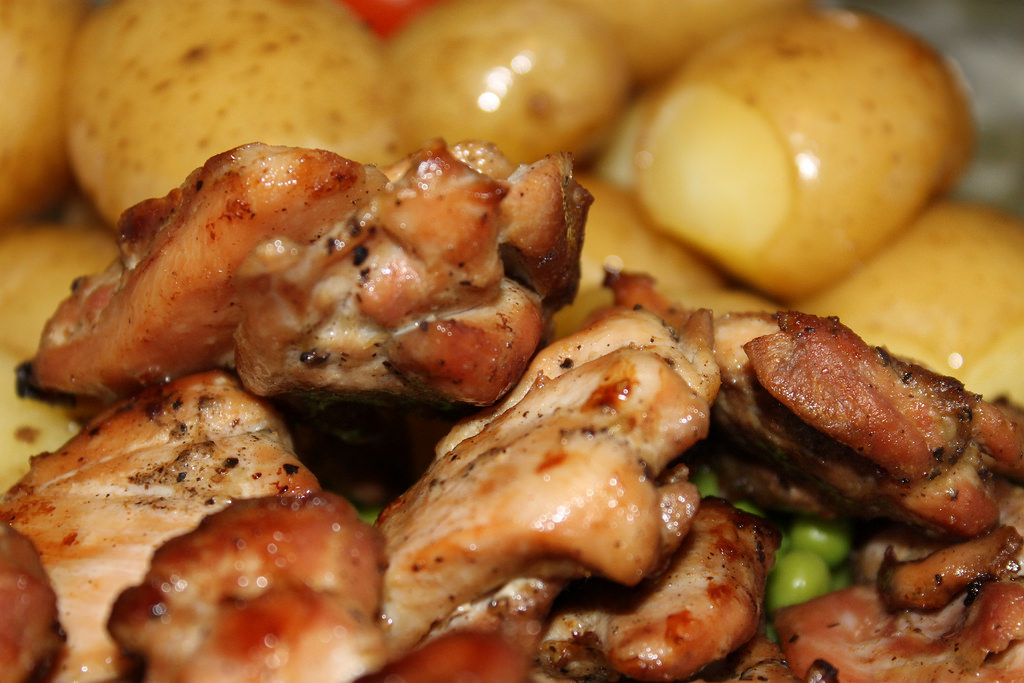boiled potatoes: (639, 5, 962, 294), (63, 1, 402, 202), (389, 1, 621, 187)
